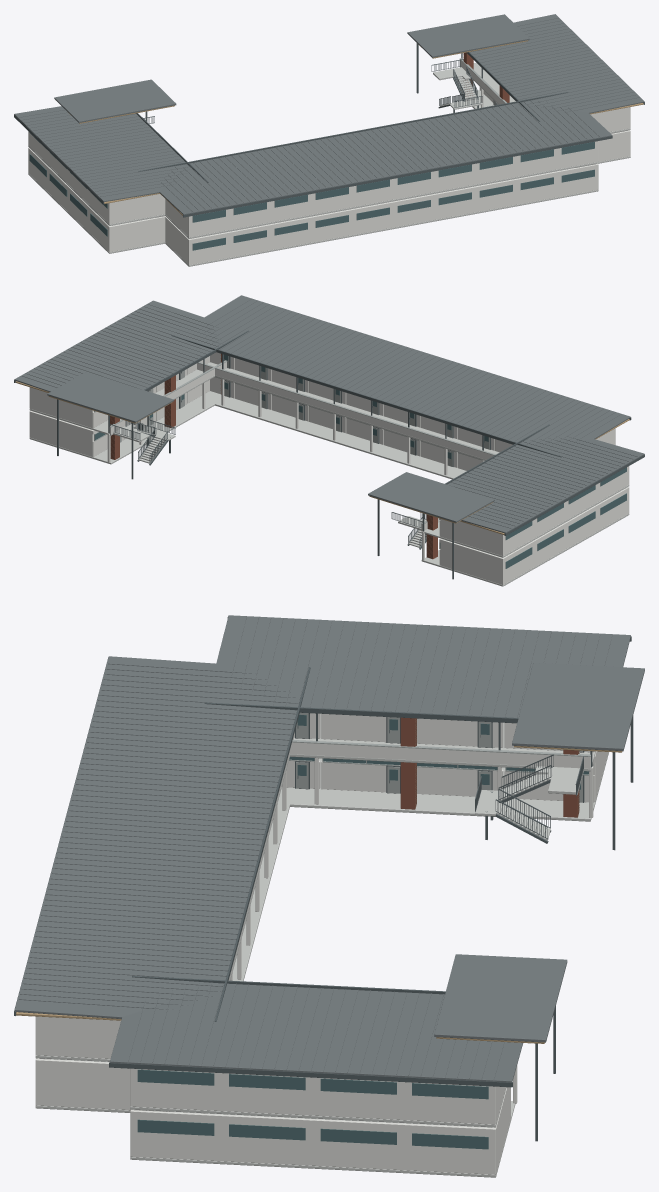
Rendered from arroyo-new-building.glb.
The picture shows the model from 3 angles, top to bottom: view 1: azimuth 30°, elevation 25°; view 2: azimuth 150°, elevation 25°; view 3: azimuth 270°, elevation 25°; orthographic projection. The views are drawn at different scales.
Parts seen in each view (by area): view 1: South teaching wing roof sheet, East teaching wing roof sheet, West teaching wing roof sheet, South teaching wing ground rear wall, South teaching wing upper rear wall, South teaching wing standing roof seam, East staircase entrance roof, West staircase entrance roof, West teaching wing standing roof seam, East teaching wing standing roof seam, South teaching wing ground rear window, South teaching wing upper rear window (+13 smaller); view 2: South teaching wing roof sheet, East teaching wing roof sheet, West teaching wing roof sheet, South teaching wing standing roof seam, East staircase entrance roof, West staircase entrance roof, South teaching wing ground floor, West teaching wing ground rear wall, West teaching wing standing roof seam, East teaching wing standing roof seam, South teaching wing gallery fascia, West teaching wing upper rear wall (+26 smaller); view 3: South teaching wing roof sheet, West teaching wing roof sheet, East teaching wing roof sheet, South teaching wing standing roof seam, East teaching wing ground rear wall, East teaching wing upper rear wall, East staircase entrance roof, West staircase entrance roof, West teaching wing ground floor, South teaching wing ground end wall, East teaching wing upper rear window, East teaching wing ground rear window (+23 smaller).
Boxes of the visible parts, <box> form: South teaching wing roof sheet: <box>159,103,612,214</box>; East teaching wing roof sheet: <box>470,14,644,113</box>; West teaching wing roof sheet: <box>14,106,186,201</box>; South teaching wing ground rear wall: <box>188,164,598,264</box>; South teaching wing upper rear wall: <box>189,141,598,236</box>; South teaching wing standing roof seam: <box>160,101,599,211</box>; East staircase entrance roof: <box>407,14,529,57</box>; West staircase entrance roof: <box>54,79,176,122</box>; West teaching wing standing roof seam: <box>19,110,191,196</box>; East teaching wing standing roof seam: <box>470,18,639,112</box>; South teaching wing ground rear window: <box>192,169,594,250</box>; South teaching wing upper rear window: <box>192,142,594,222</box>; South teaching wing roof sheet: <box>204,295,630,443</box>; East teaching wing roof sheet: <box>14,300,215,392</box>; West teaching wing roof sheet: <box>447,439,644,533</box>; South teaching wing standing roof seam: <box>199,299,621,447</box>; East staircase entrance roof: <box>47,372,174,422</box>; West staircase entrance roof: <box>368,472,494,522</box>; South teaching wing ground floor: <box>215,397,466,479</box>; West teaching wing ground rear wall: <box>502,487,628,584</box>; West teaching wing standing roof seam: <box>449,436,637,528</box>; East teaching wing standing roof seam: <box>21,304,223,389</box>; South teaching wing gallery fascia: <box>197,363,493,459</box>; West teaching wing upper rear wall: <box>502,467,628,555</box>; South teaching wing roof sheet: <box>14,656,297,1018</box>; West teaching wing roof sheet: <box>216,615,630,717</box>; East teaching wing roof sheet: <box>110,983,523,1082</box>; South teaching wing standing roof seam: <box>18,663,298,1009</box>; East teaching wing ground rear wall: <box>130,1110,496,1174</box>; East teaching wing upper rear wall: <box>130,1068,496,1124</box>; East staircase entrance roof: <box>434,954,567,1042</box>; West staircase entrance roof: <box>512,663,644,751</box>; West teaching wing ground floor: <box>278,752,608,821</box>; South teaching wing ground end wall: <box>35,1058,168,1111</box>; East teaching wing upper rear window: <box>137,1069,488,1099</box>; East teaching wing ground rear window: <box>137,1119,488,1149</box>.
Size of the model in its own units: 82.36 by 9.13 by 47.08.
